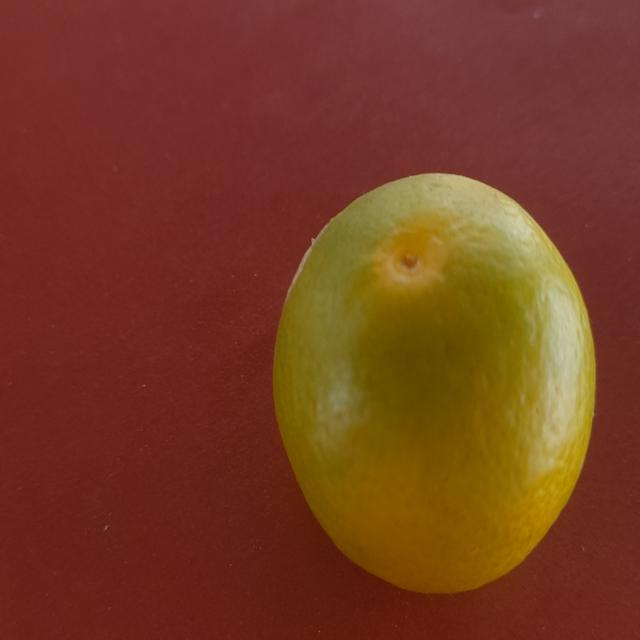greening: (269, 184, 593, 591)
